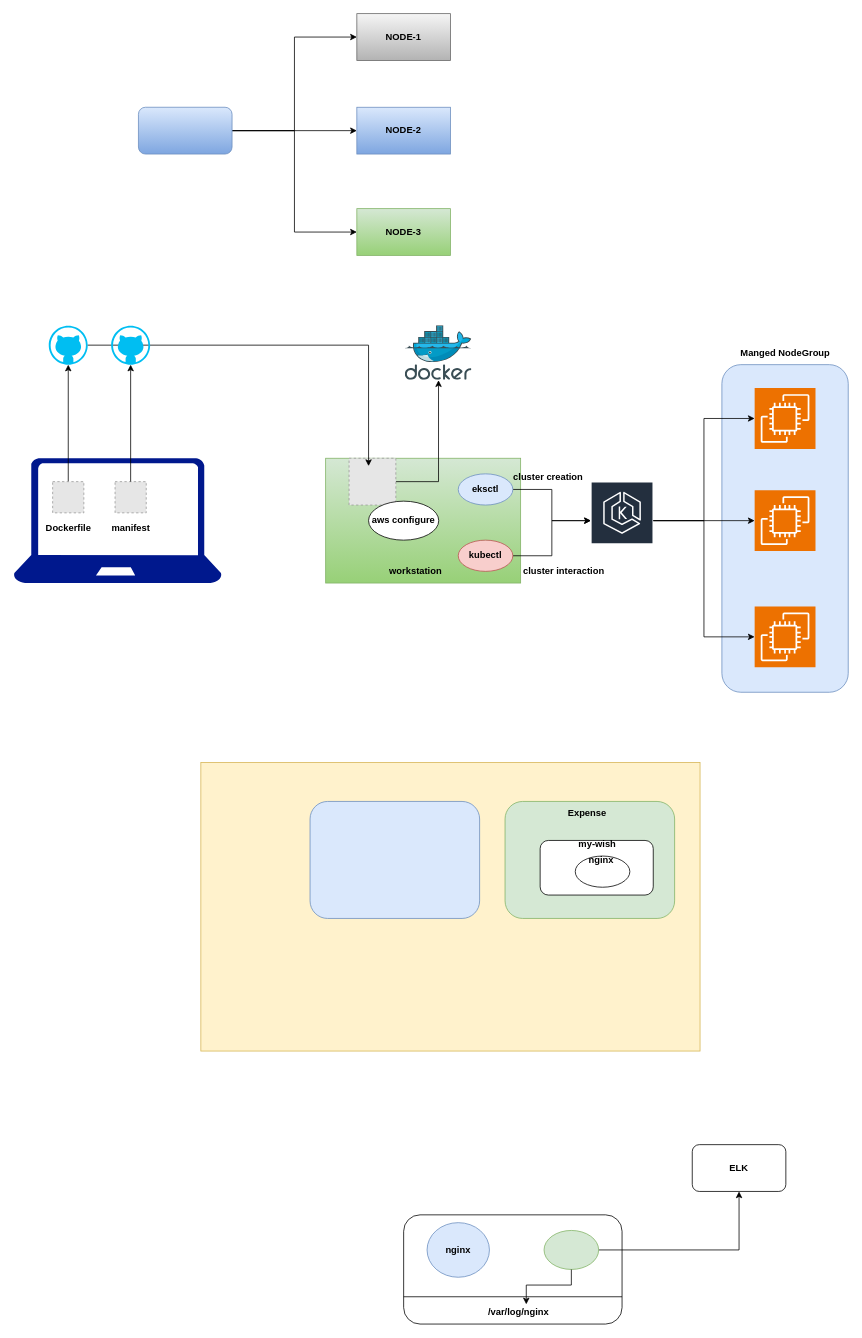
Some shapes in this 862 by 1338 pixel diagram are drawn without their labels. Grey dashed boxes stand in for pictures. Each missing label, with the box of its shape:
Amazon EKS: (590, 481, 653, 560)
Master: (138, 106, 232, 154)
Roboshop: (309, 801, 480, 918)
sidecar: (543, 1230, 599, 1269)
